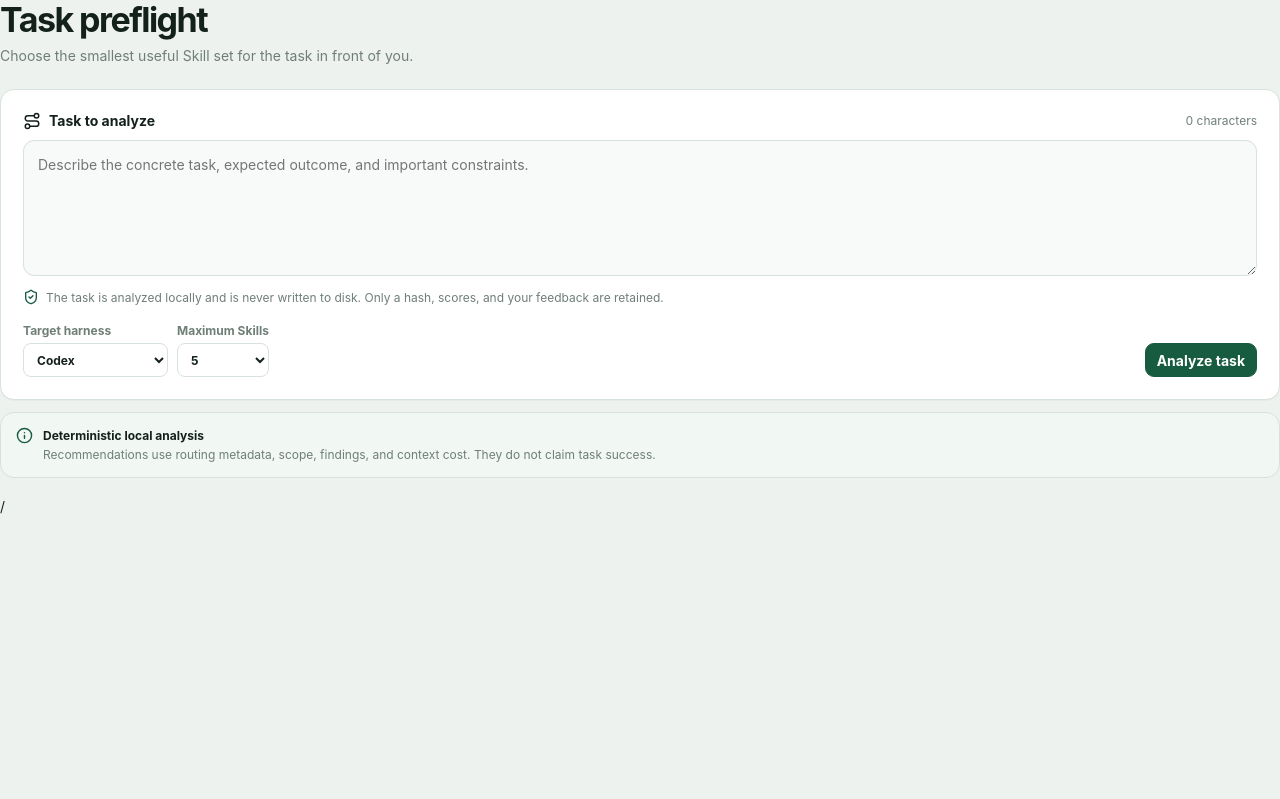
Test case: PreflightPage v2 › keeps an analyzed result bound to the Harness used for that analysis
The image size is (1280, 799).
Select "Claude Code" in the dropdown labelled "Target harness" at (96, 360), box [23, 343, 168, 377]
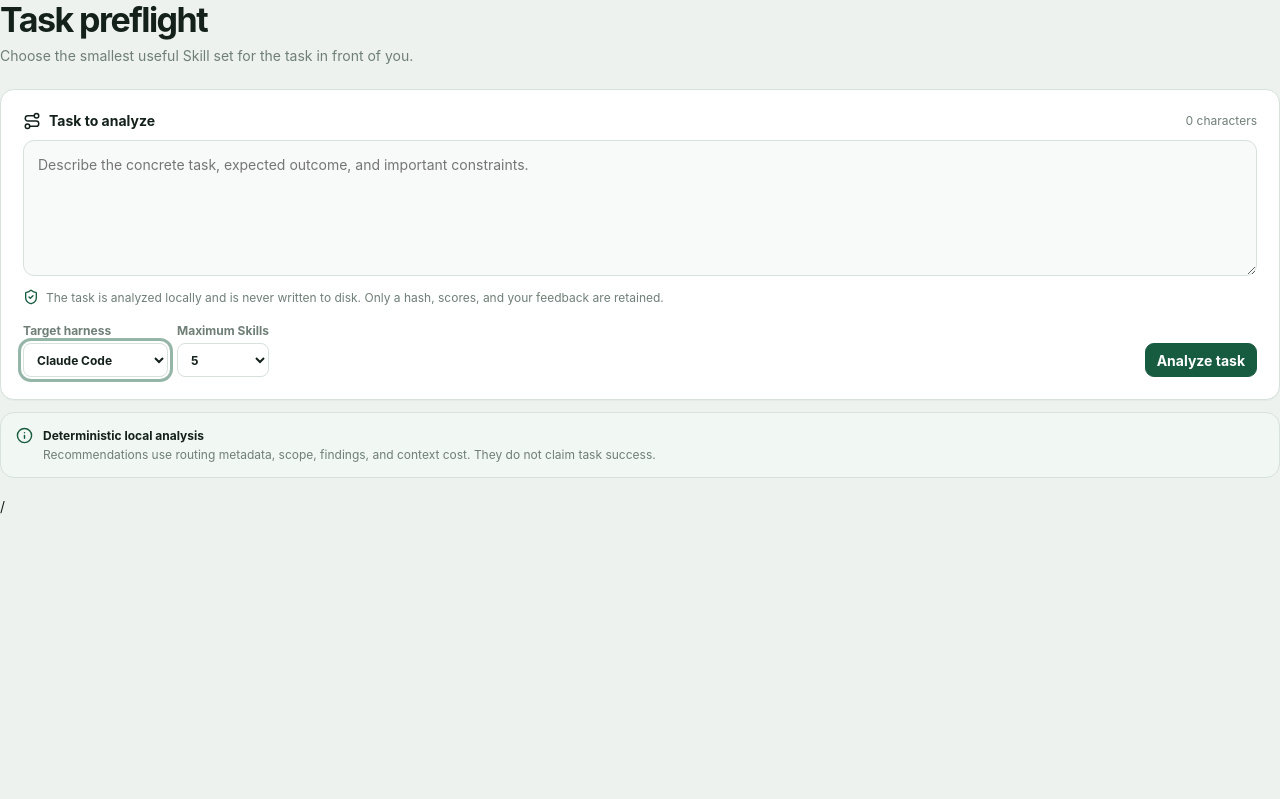
Type "Review security and missing tests" into the text box named "Task to analyze" at (640, 208), box [23, 140, 1257, 276]
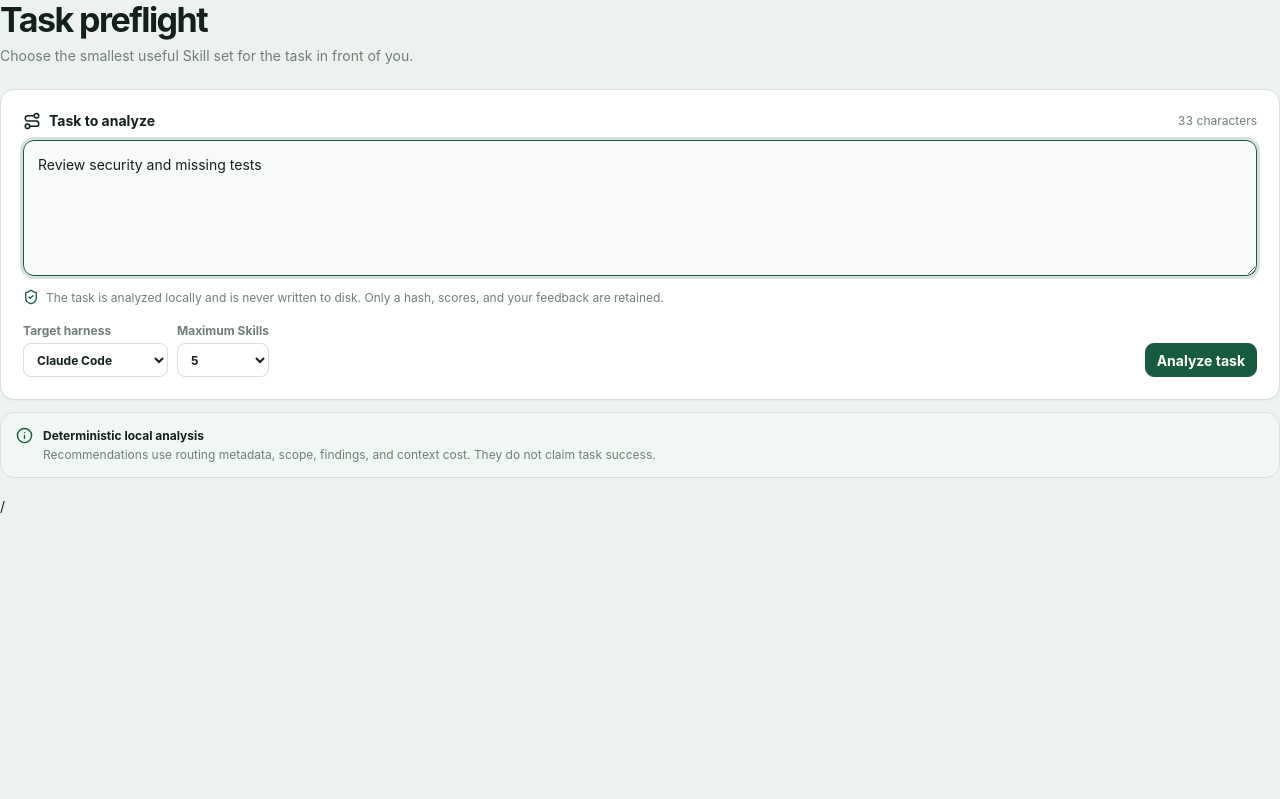
Click the button "Analyze task" at (1201, 360), box [1145, 343, 1257, 377]
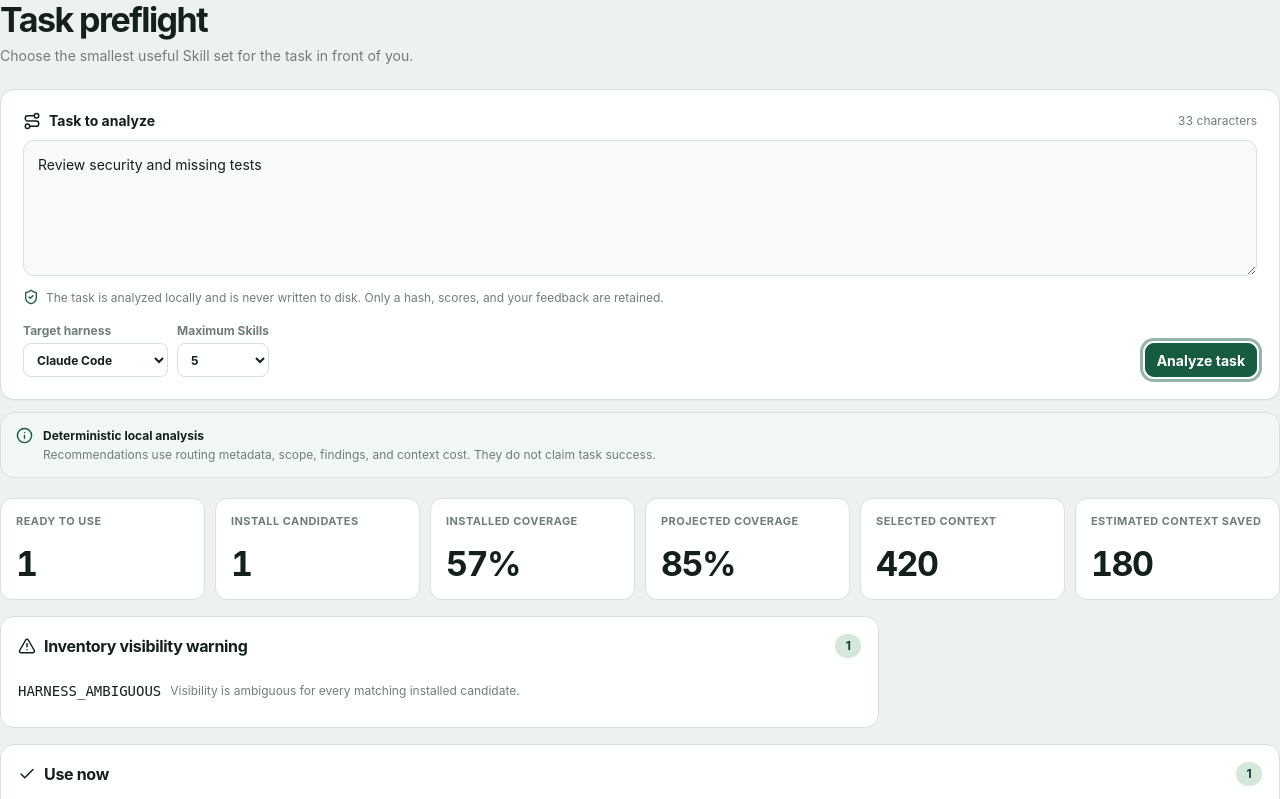
Select "Codex" in the dropdown labelled "Target harness" at (96, 360), box [23, 343, 168, 377]
(page scrolled)
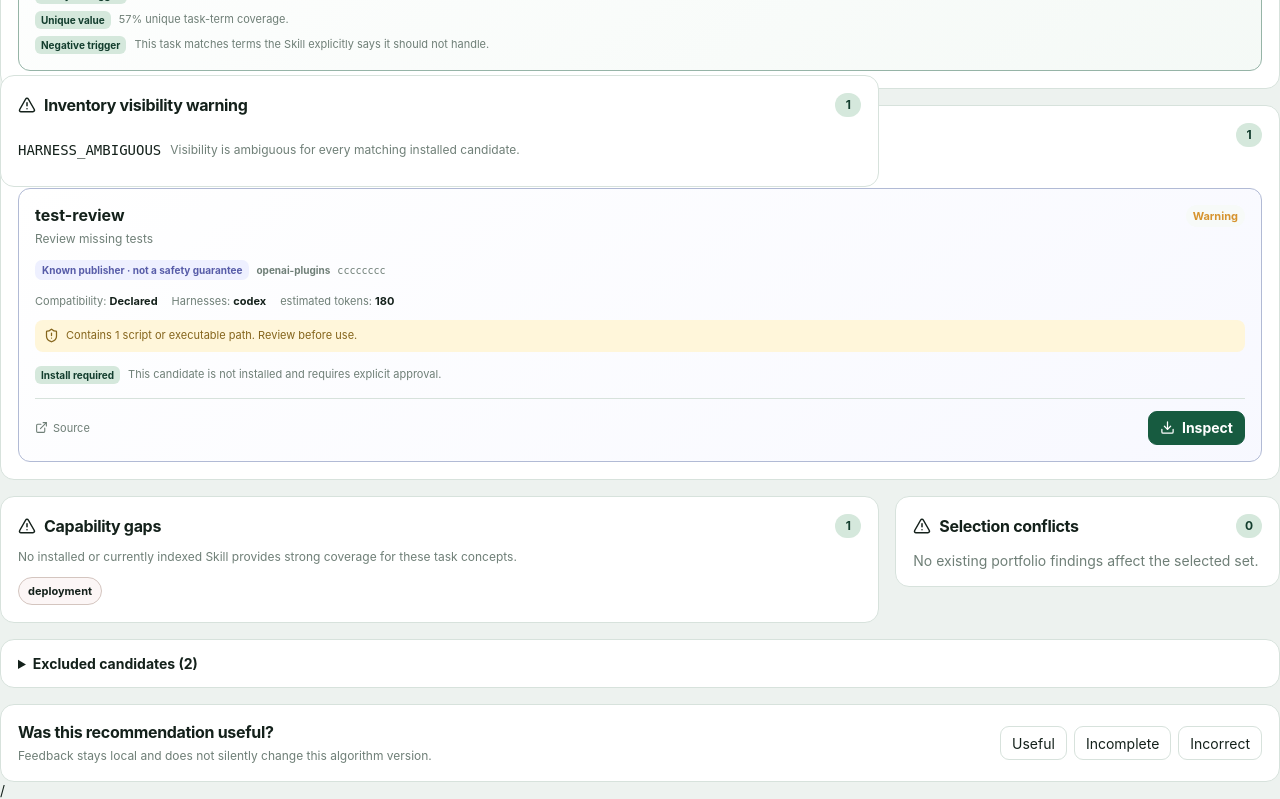
Click the button with aria-label "Inspect test-review" at (1196, 428), box [1148, 411, 1245, 445]
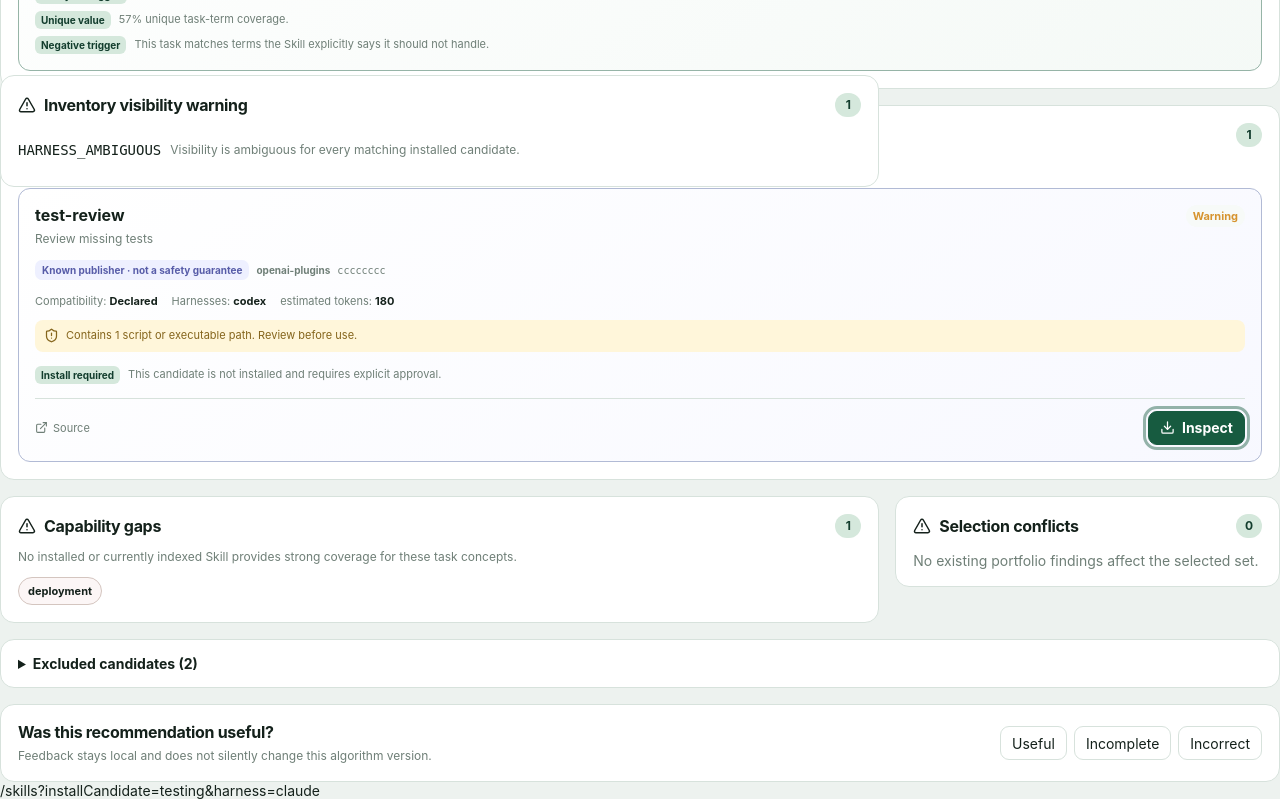
Check: the text with test id "location" reads "/skills?installCandidate=testing&harness=claude", box [0, 782, 320, 798]
